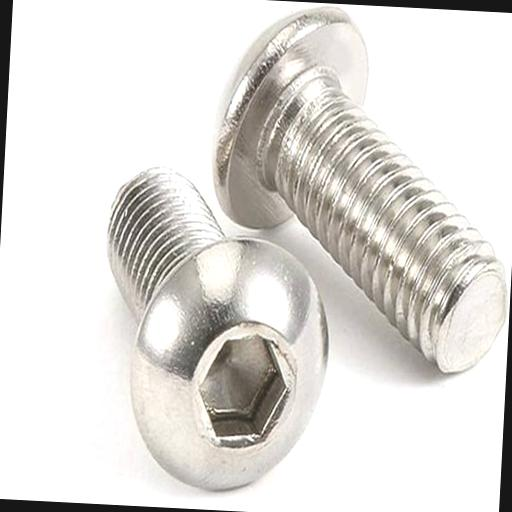Hex-Allen: (126, 230, 336, 499)
